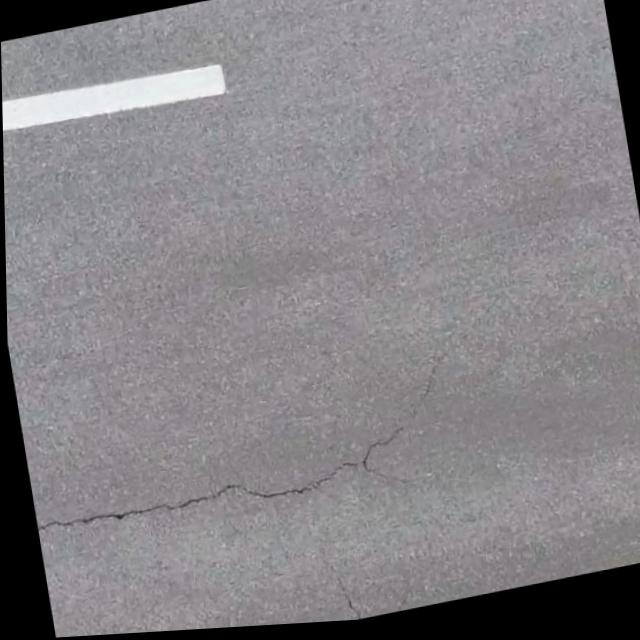Crack: (30, 375, 594, 562)
